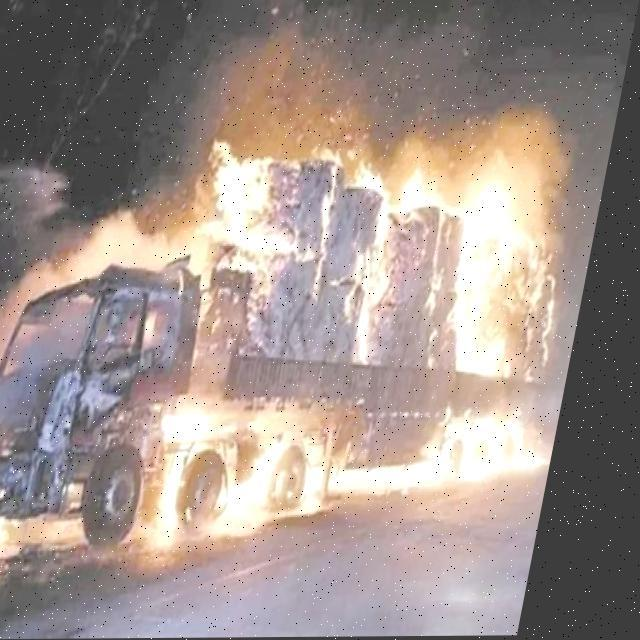Fire: (0, 120, 609, 538)
